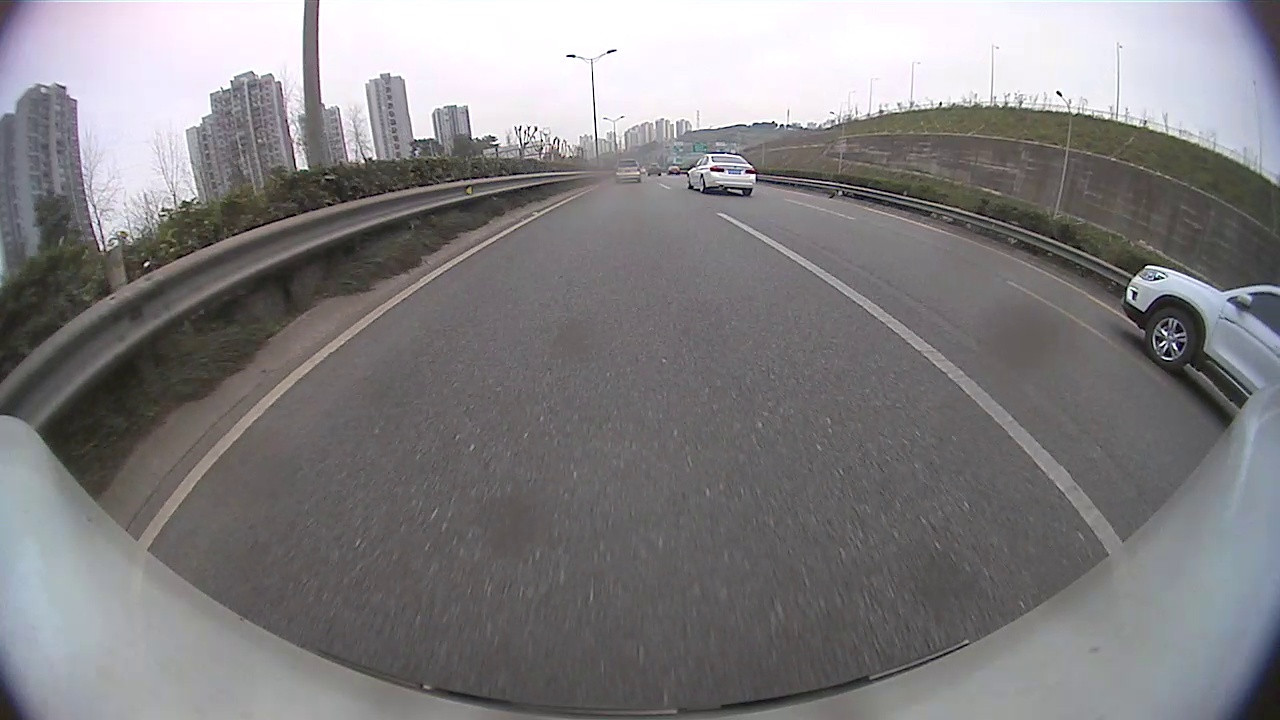car: (1118, 263, 1279, 403), (684, 150, 757, 196), (613, 156, 643, 184)
front: (1144, 307, 1197, 371)
